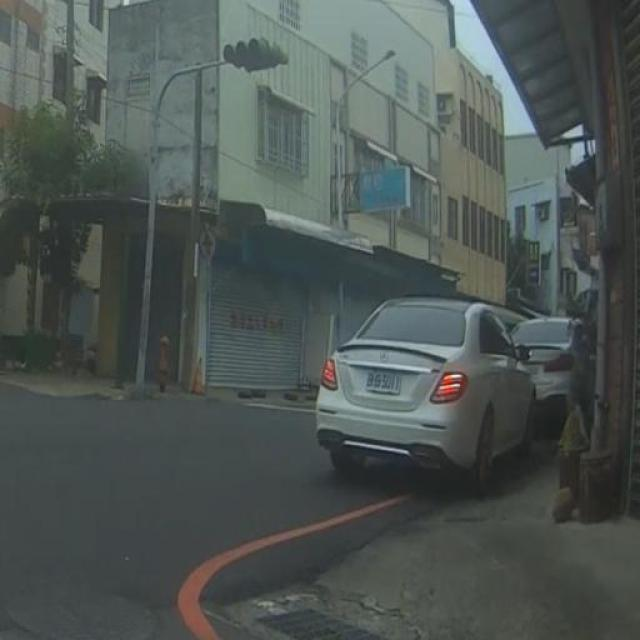illegalparking: (239, 284, 640, 483)
